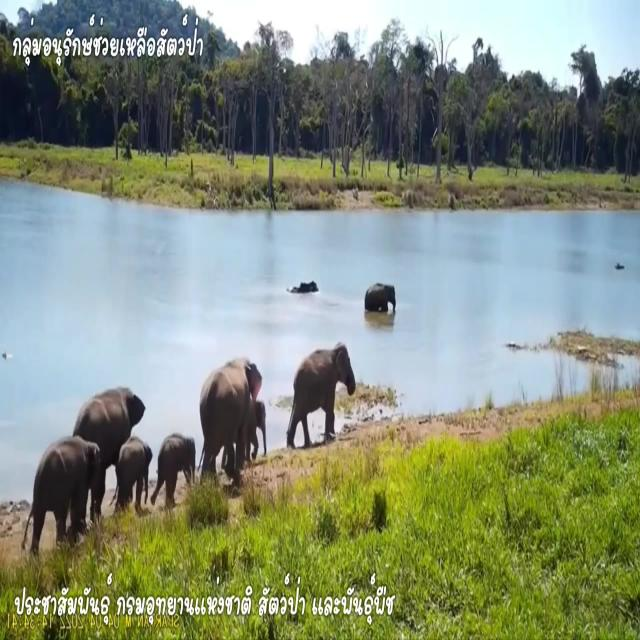Elephant: (198, 346, 264, 447), (34, 429, 100, 521), (76, 378, 145, 452), (293, 342, 356, 420), (158, 424, 198, 488), (116, 433, 151, 491), (365, 278, 399, 323), (244, 396, 270, 454)
